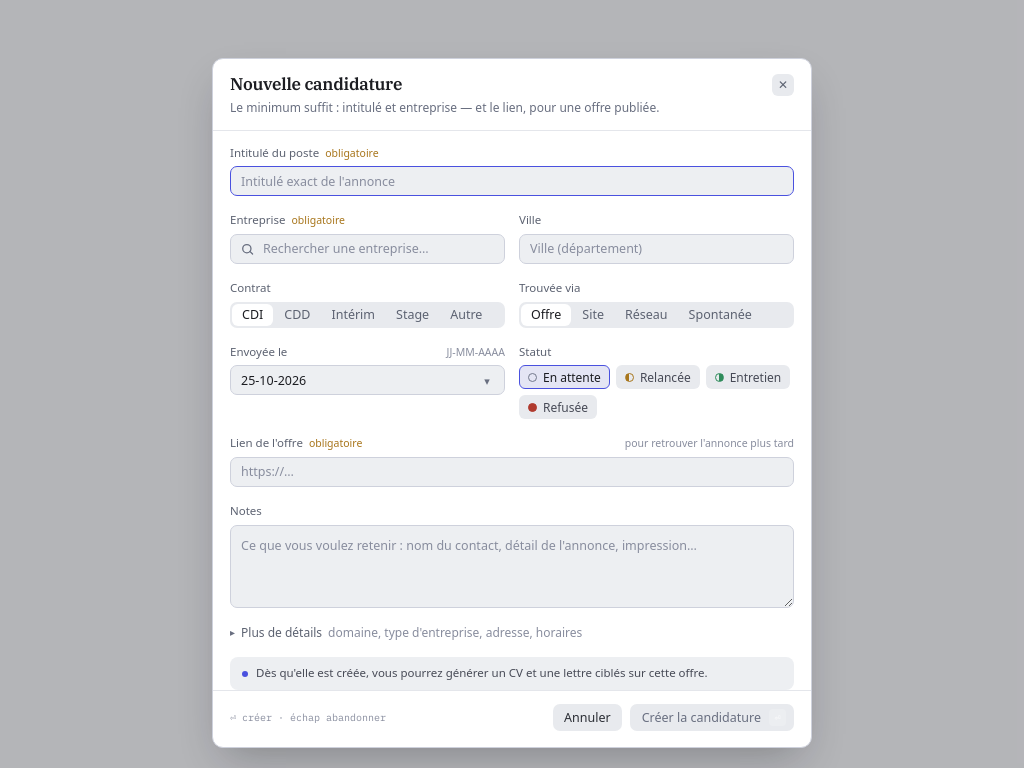
Test: Nouvelle candidature — garde-fous de la création rapide › refuse une entreprise sans nom sans appeler le backend
Type "Nova Digital" into the dropdown labelled "Entreprise".
click(368, 249); type("Nova Digital")  # box [230,234,505,264]
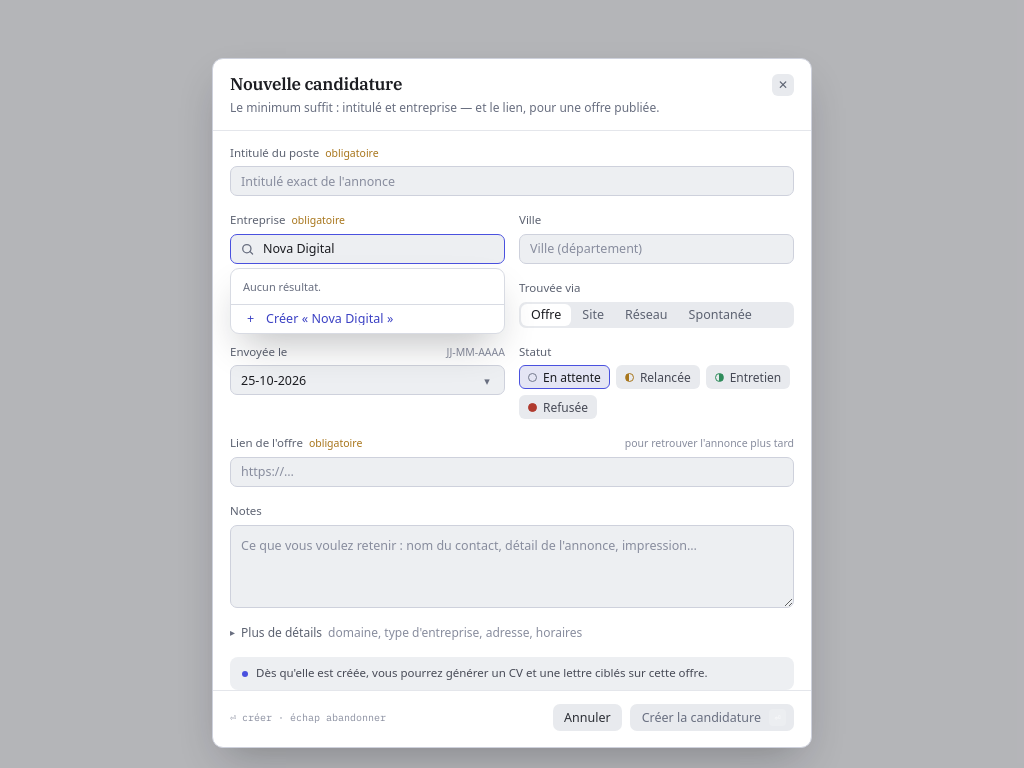
Click the button "+ Créer « Nova Digital »".
click(368, 319)  # box [231,304,504,334]
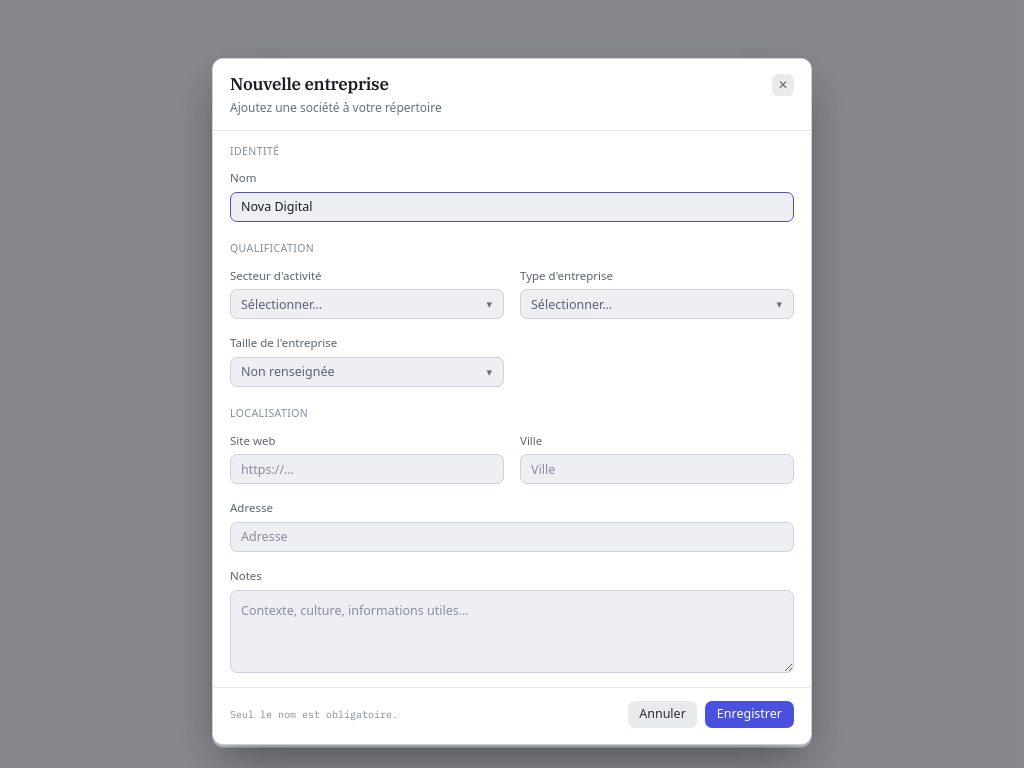
Clear the field labelled "Nom" at (512, 207), box [230,192,794,222]
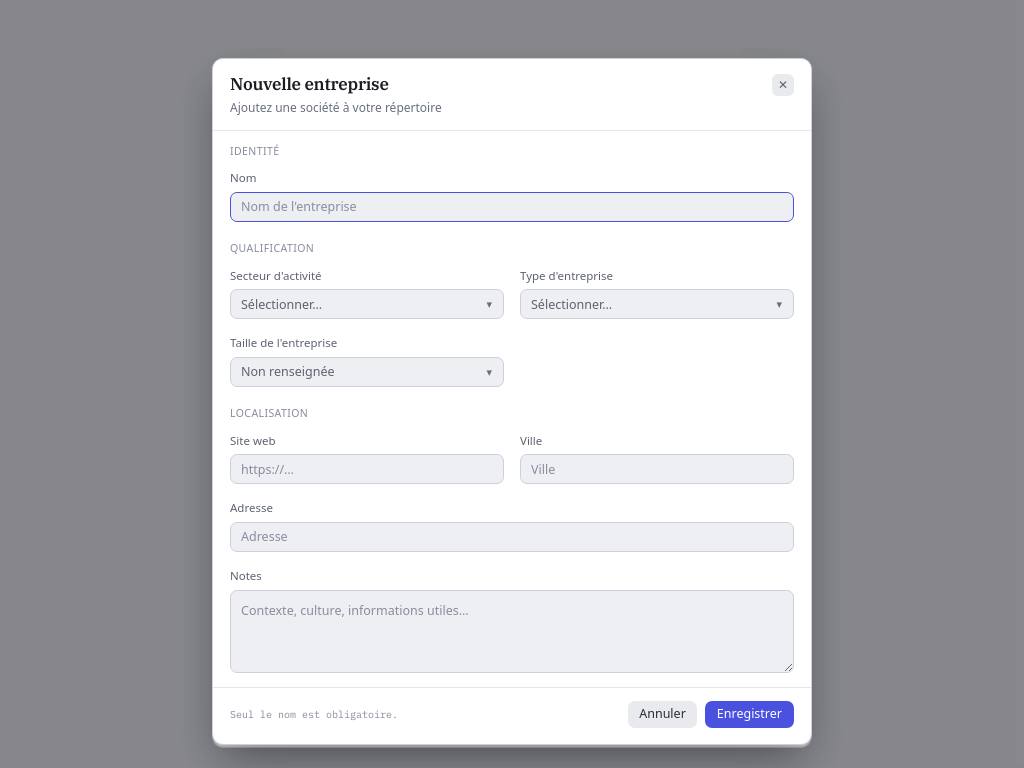
Click the button "Enregistrer".
click(749, 714)  # box [705,700,794,728]
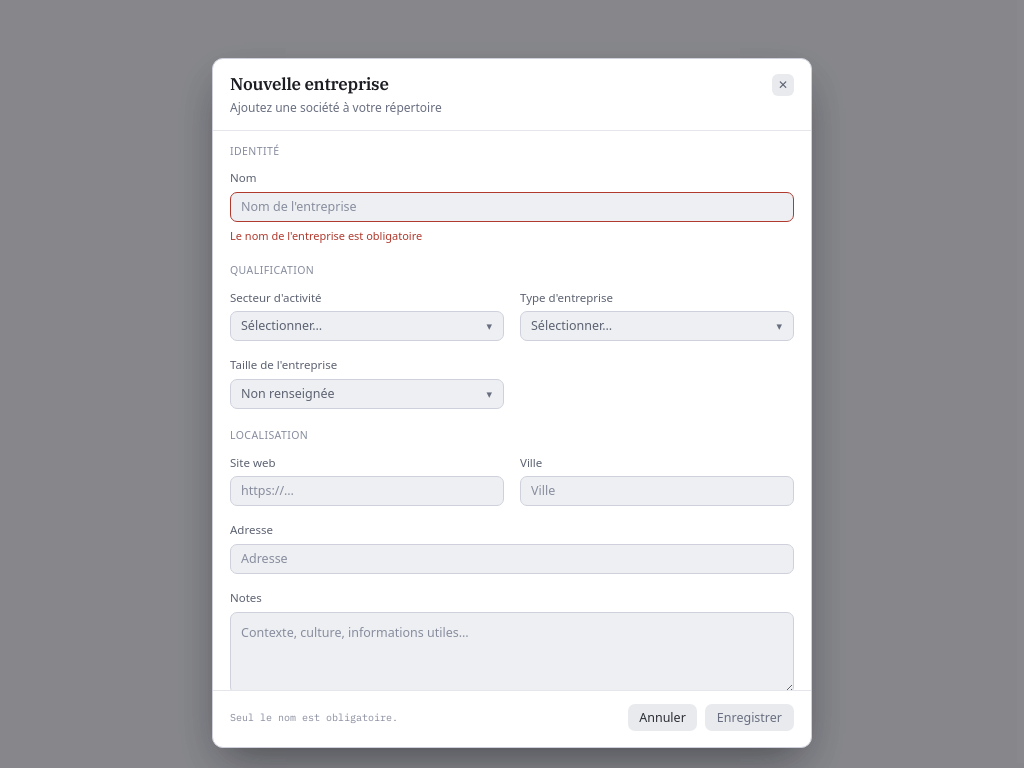
expect the dialog "Nouvelle entreprise" is shown: met, box [212,58,812,748]
expect the text "Le nom de l'entreprise est obligatoire" is shown: met, box [230,228,422,243]
